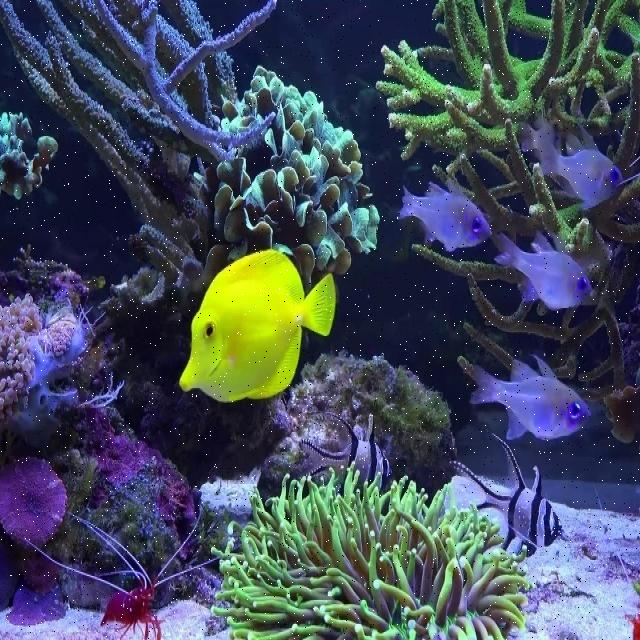aquatic plants: (212, 461, 530, 639)
fish: (179, 249, 337, 403), (449, 433, 564, 557), (470, 353, 593, 440), (300, 411, 392, 503), (494, 232, 592, 310), (542, 124, 624, 210), (396, 182, 492, 252), (521, 111, 559, 165)
reefs: (0, 0, 381, 343), (376, 0, 639, 444), (100, 586, 161, 639)
sea-floor: (0, 244, 200, 628), (258, 349, 458, 508)
